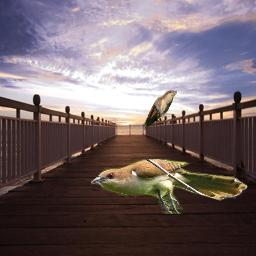Cuckoo: (91, 159, 248, 214), (142, 90, 177, 131)
